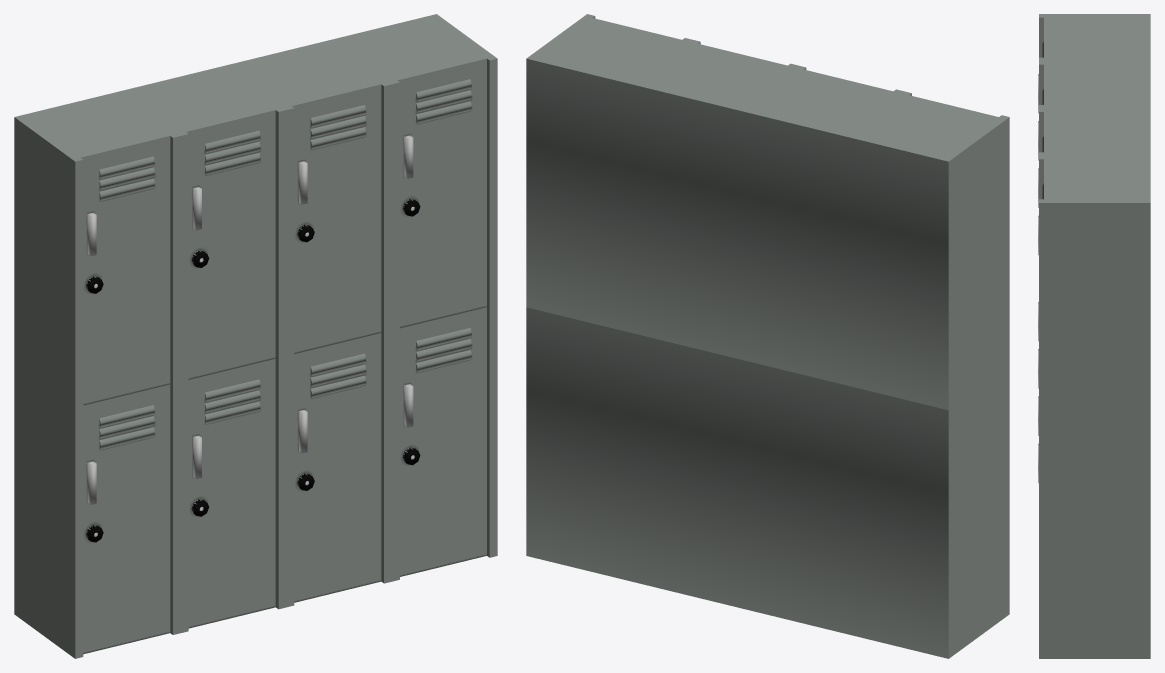
The model's file is assetLockersModern.fbx.
The picture shows the model from 3 angles, left to right: view 1: azimuth 30°, elevation 25°; view 2: azimuth 150°, elevation 25°; view 3: azimuth 270°, elevation 25°; orthographic projection. The views are drawn at different scales.
Parts seen in each view (by area): view 1: CubeBake.001; view 2: CubeBake.001; view 3: CubeBake.001.
Part boxes in pixels (<box>): CubeBake.001: <box>14,14,497,658</box>; CubeBake.001: <box>526,14,1009,658</box>; CubeBake.001: <box>1038,14,1150,658</box>.
Size of the model in its own units: 160 by 180 by 40.21.
Materials: 1 (1 with a texture image).
